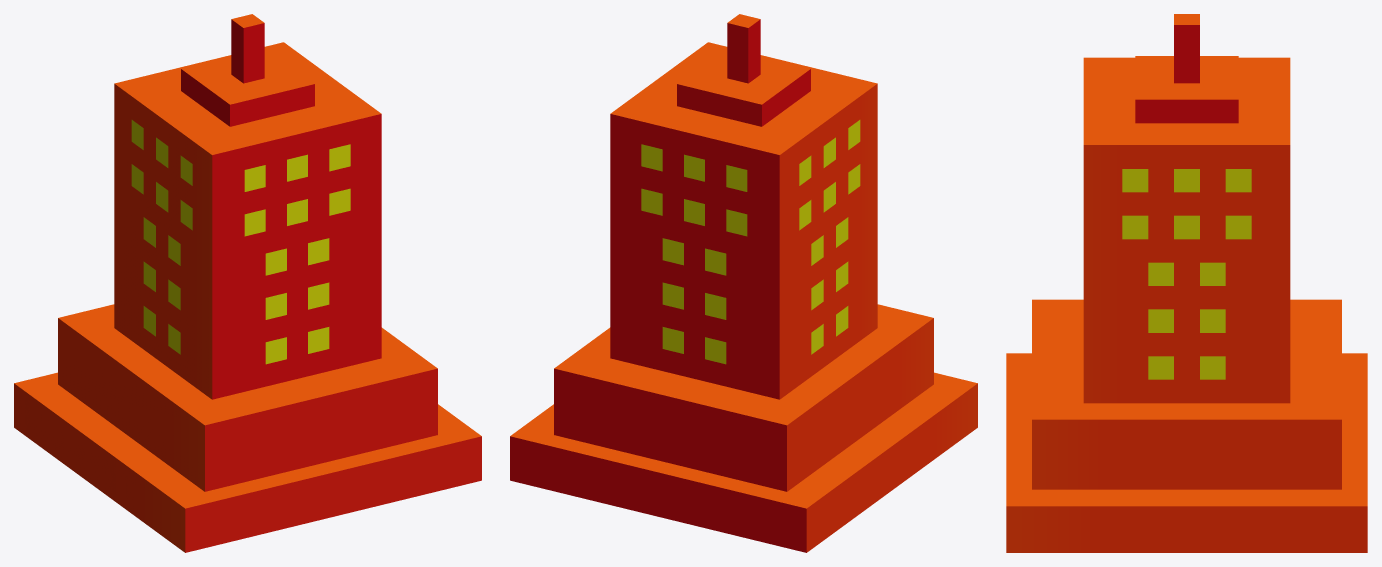
Rendered from HQ.OrangeStar.glb.
The picture shows the model from 3 angles, left to right: view 1: azimuth 30°, elevation 25°; view 2: azimuth 150°, elevation 25°; view 3: azimuth 270°, elevation 25°; orthographic projection. The views are drawn at different scales.
Parts seen in each view (by area): view 1: HQ.OrangeStar; view 2: HQ.OrangeStar; view 3: HQ.OrangeStar.
Boxes of the visible parts, x1=… form: HQ.OrangeStar: x1=14, y1=14, x2=481, y2=552; HQ.OrangeStar: x1=510, y1=14, x2=977, y2=552; HQ.OrangeStar: x1=1006, y1=14, x2=1367, y2=552.
Size of the model in its own units: 2.8 by 3.91 by 2.8.
2 materials, 1 textured.
